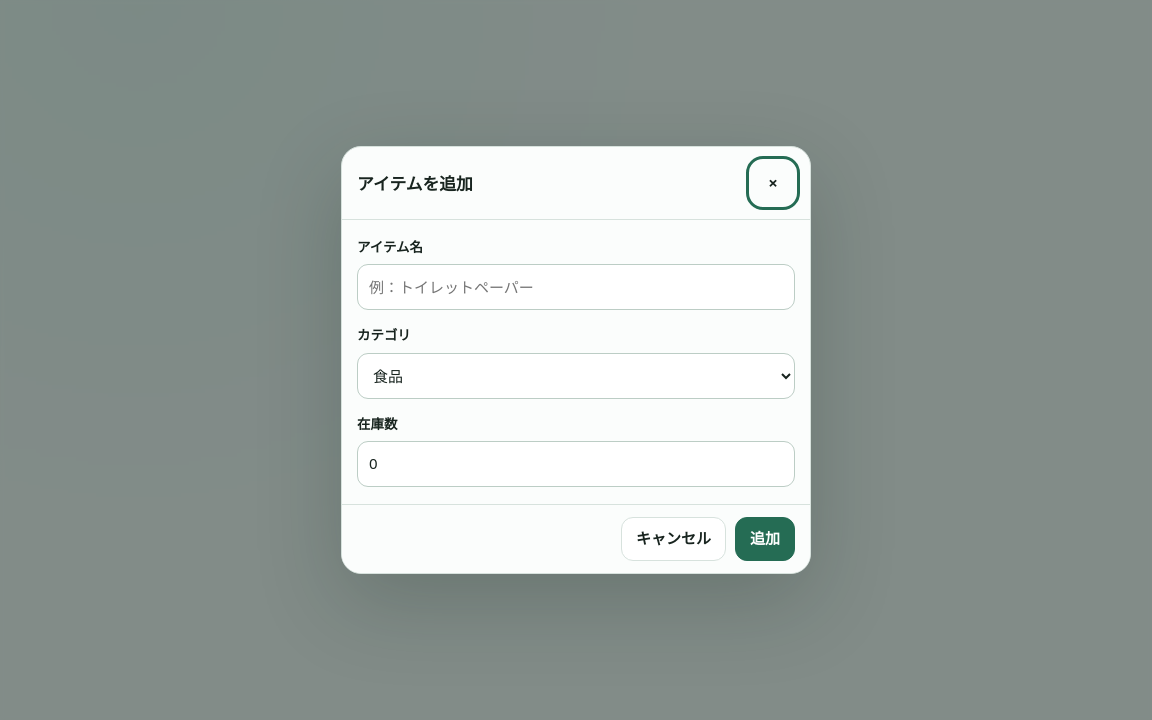
Test: ItemFormModal › rejects an invalid direct quantity:
Type "牛乳" into the field labelled "アイテム名" at (576, 287), box [357,264,795,310]
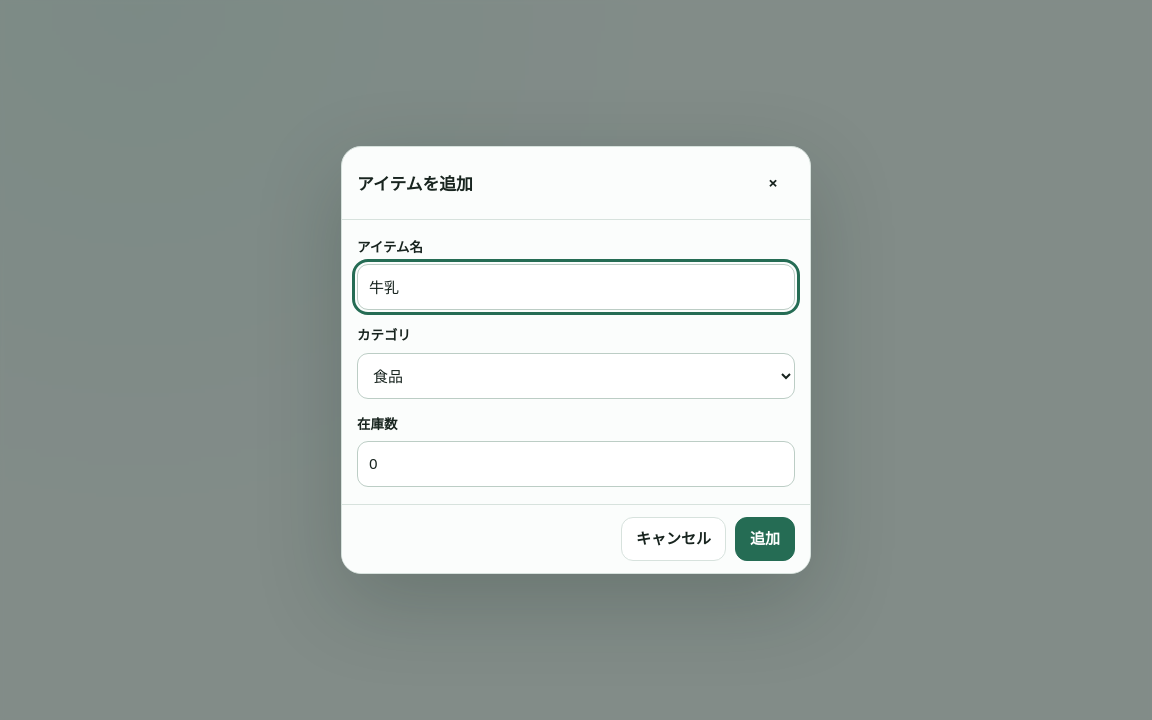
Clear the number field labelled "在庫数" at (576, 464), box [357,441,795,487]
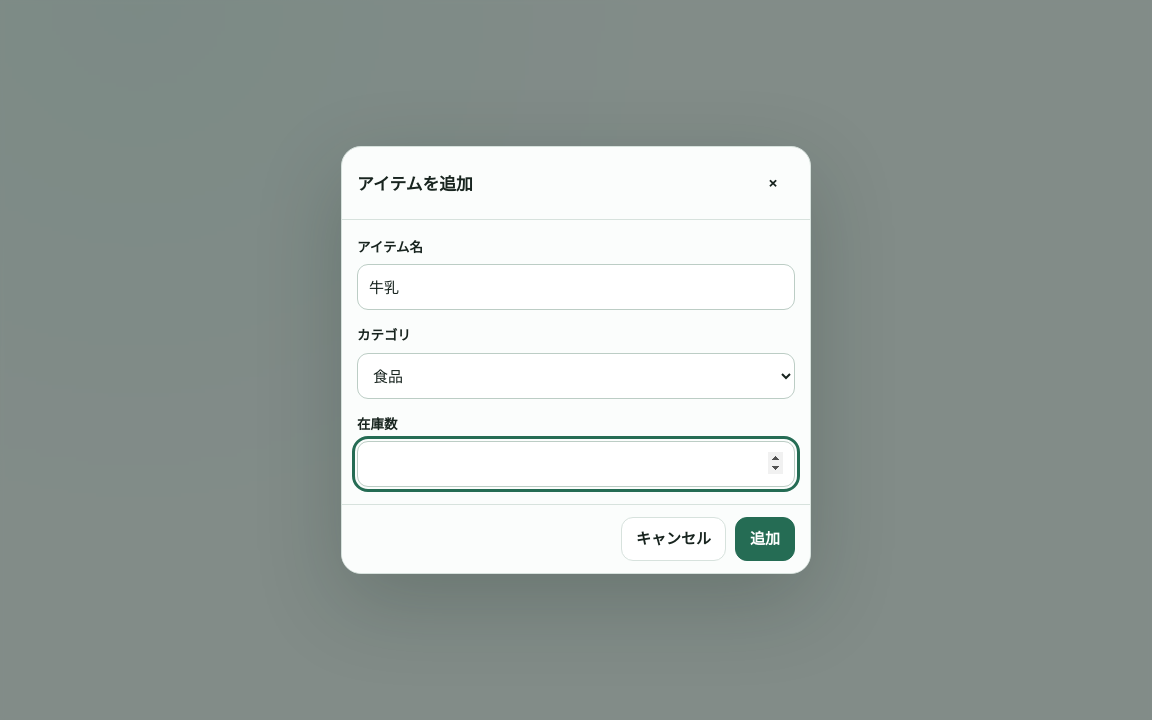
Submit the form with id "item-form", box [357,237,795,487]
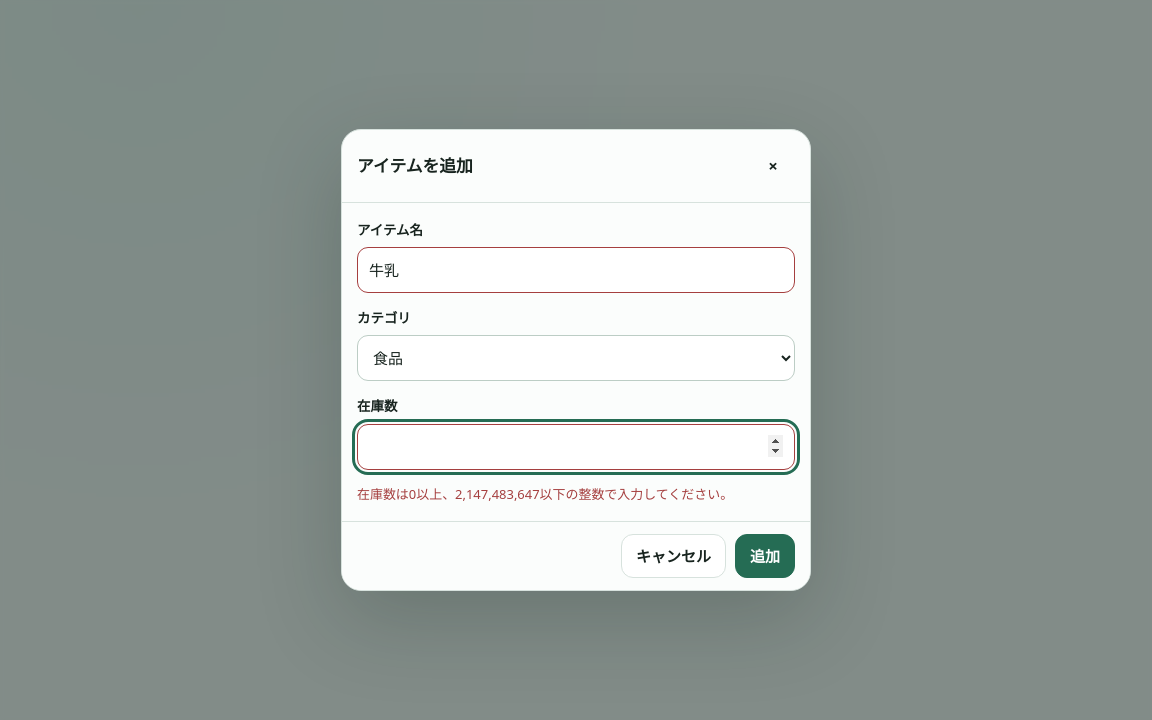
Result: the message reads "在庫数は0以上、2,147,483,647以下の整数で入力してください。" at [357,484,733,502]
